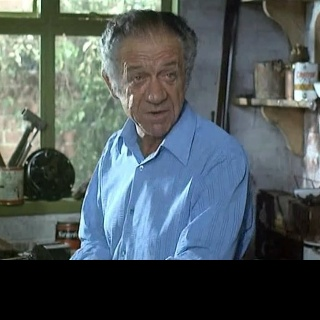without_mask: (102, 7, 197, 137)
